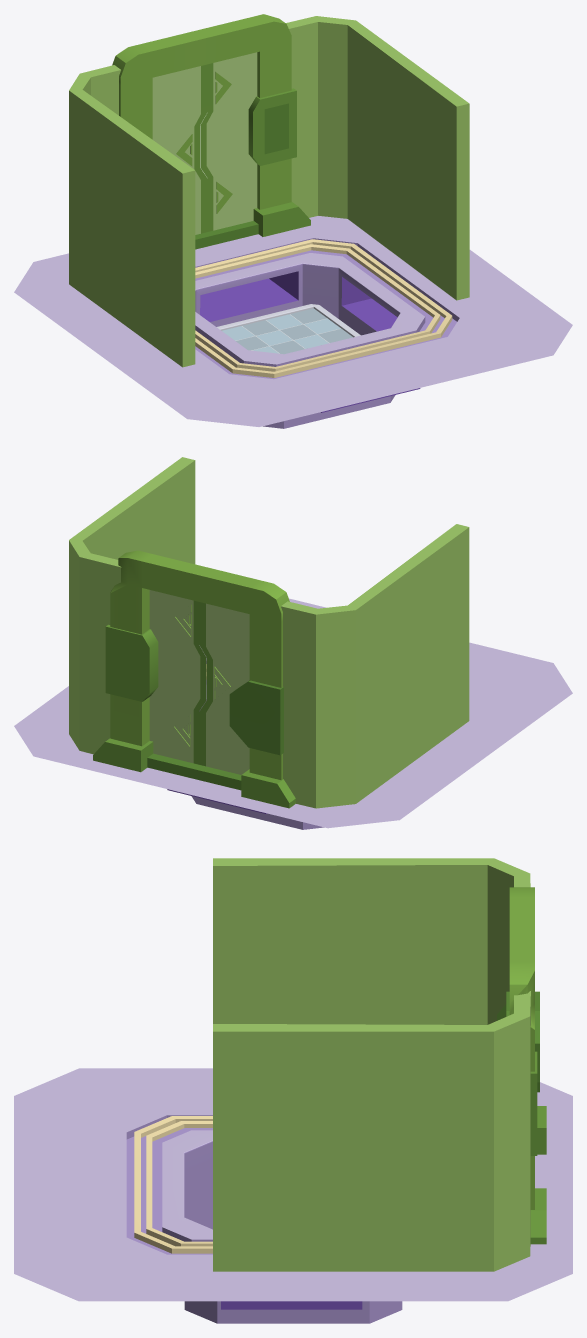
The picture shows the model from 3 angles, top to bottom: view 1: azimuth 30°, elevation 25°; view 2: azimuth 150°, elevation 25°; view 3: azimuth 270°, elevation 25°; orthographic projection. The views are drawn at different scales.
Parts seen in each view (by area): view 1: BG_base, main; view 2: BG_base; view 3: BG_base.
Boxes of the visible parts, box(x1,y1,x2,y2) form: BG_base: box(14, 14, 572, 428); main: box(216, 304, 360, 354); BG_base: box(14, 457, 572, 829); BG_base: box(14, 858, 572, 1323).
Size of the model in its own units: 12325 by 8599 by 12493.
